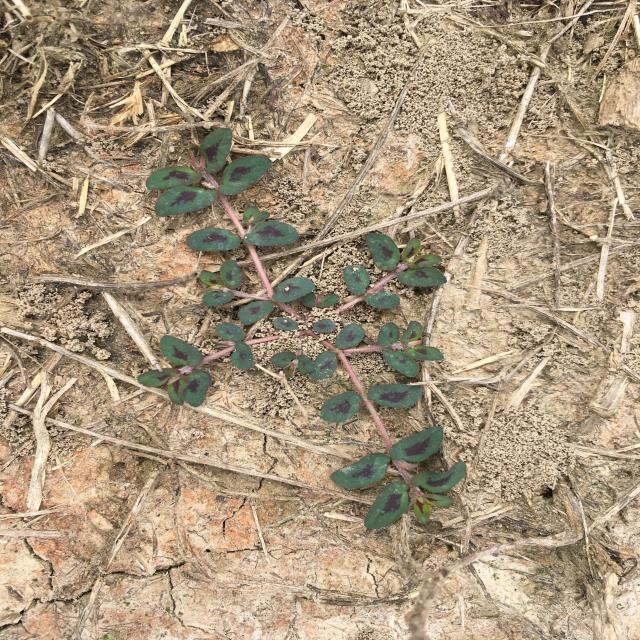SpottedSpurge: (137, 127, 467, 529)
